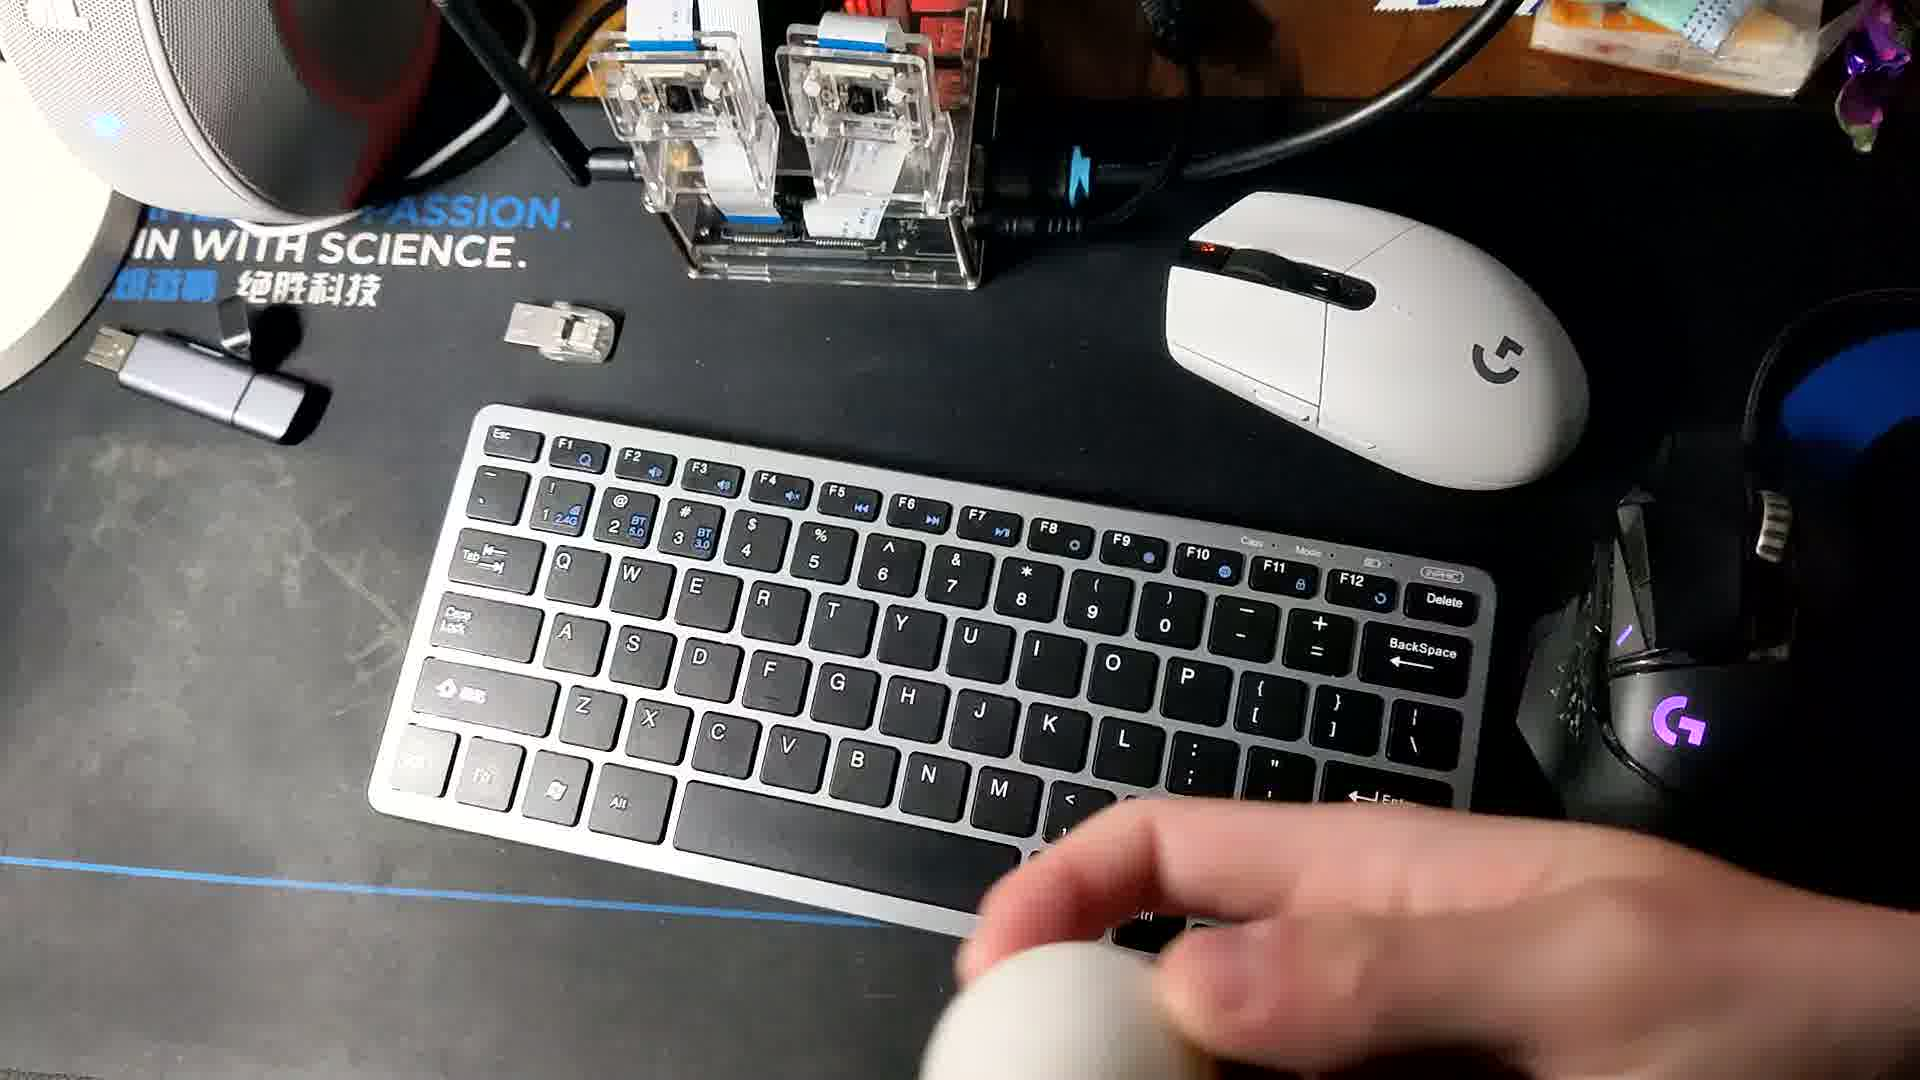Ball: (913, 935, 1215, 1080)
